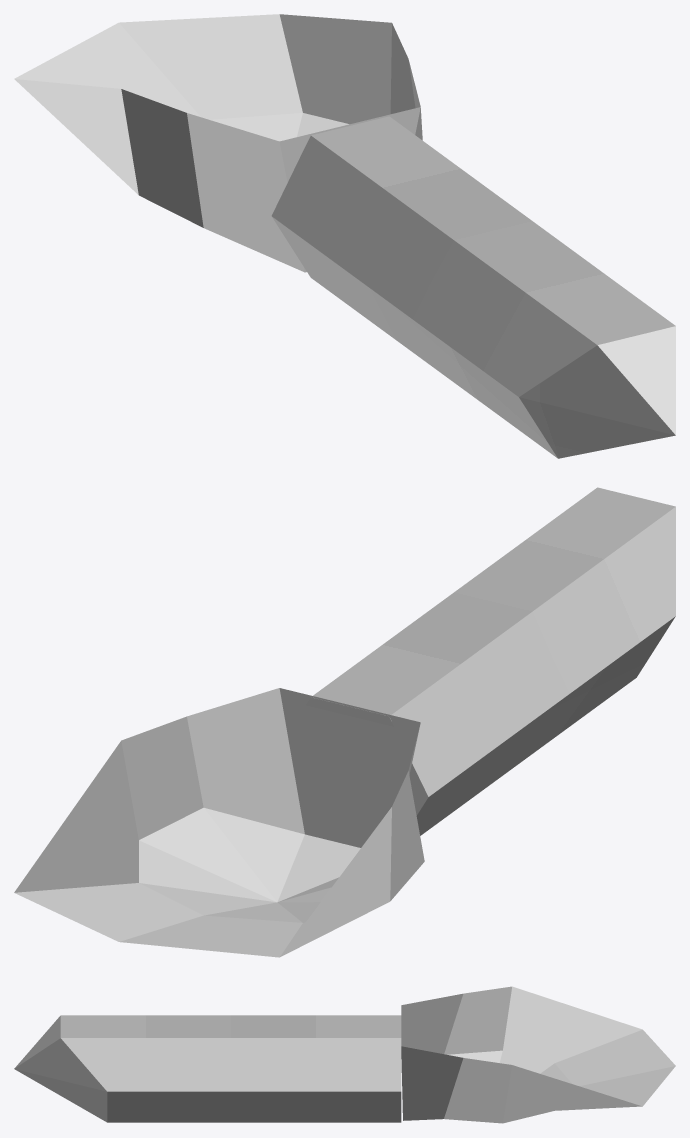
The model's file is spoon 2.fbx.
3 renders of one model, top to bottom at view 1: azimuth 30°, elevation 25°; view 2: azimuth 150°, elevation 25°; view 3: azimuth 270°, elevation 25°, orthographic. The views are drawn at different scales.
Visible parts, largest first — view 1: cylinder, sphere, sphere_1; view 2: sphere, cylinder, sphere_1; view 3: cylinder, sphere, sphere_1.
Part boxes in pixels (x1=…): cylinder: x1=271, y1=116, x2=675, y2=458; sphere: x1=14, y1=14, x2=422, y2=272; sphere_1: x1=119, y1=16, x2=421, y2=269; sphere: x1=14, y1=688, x2=424, y2=957; cylinder: x1=306, y1=487, x2=675, y2=835; sphere_1: x1=22, y1=688, x2=422, y2=947; cylinder: x1=14, y1=1015, x2=401, y2=1122; sphere: x1=401, y1=986, x2=675, y2=1123; sphere_1: x1=401, y1=988, x2=673, y2=1122.
Bounding box in the file's own units: 12.44 × 6.32 × 44.33.
Materials: 1 (1 with a texture image).
